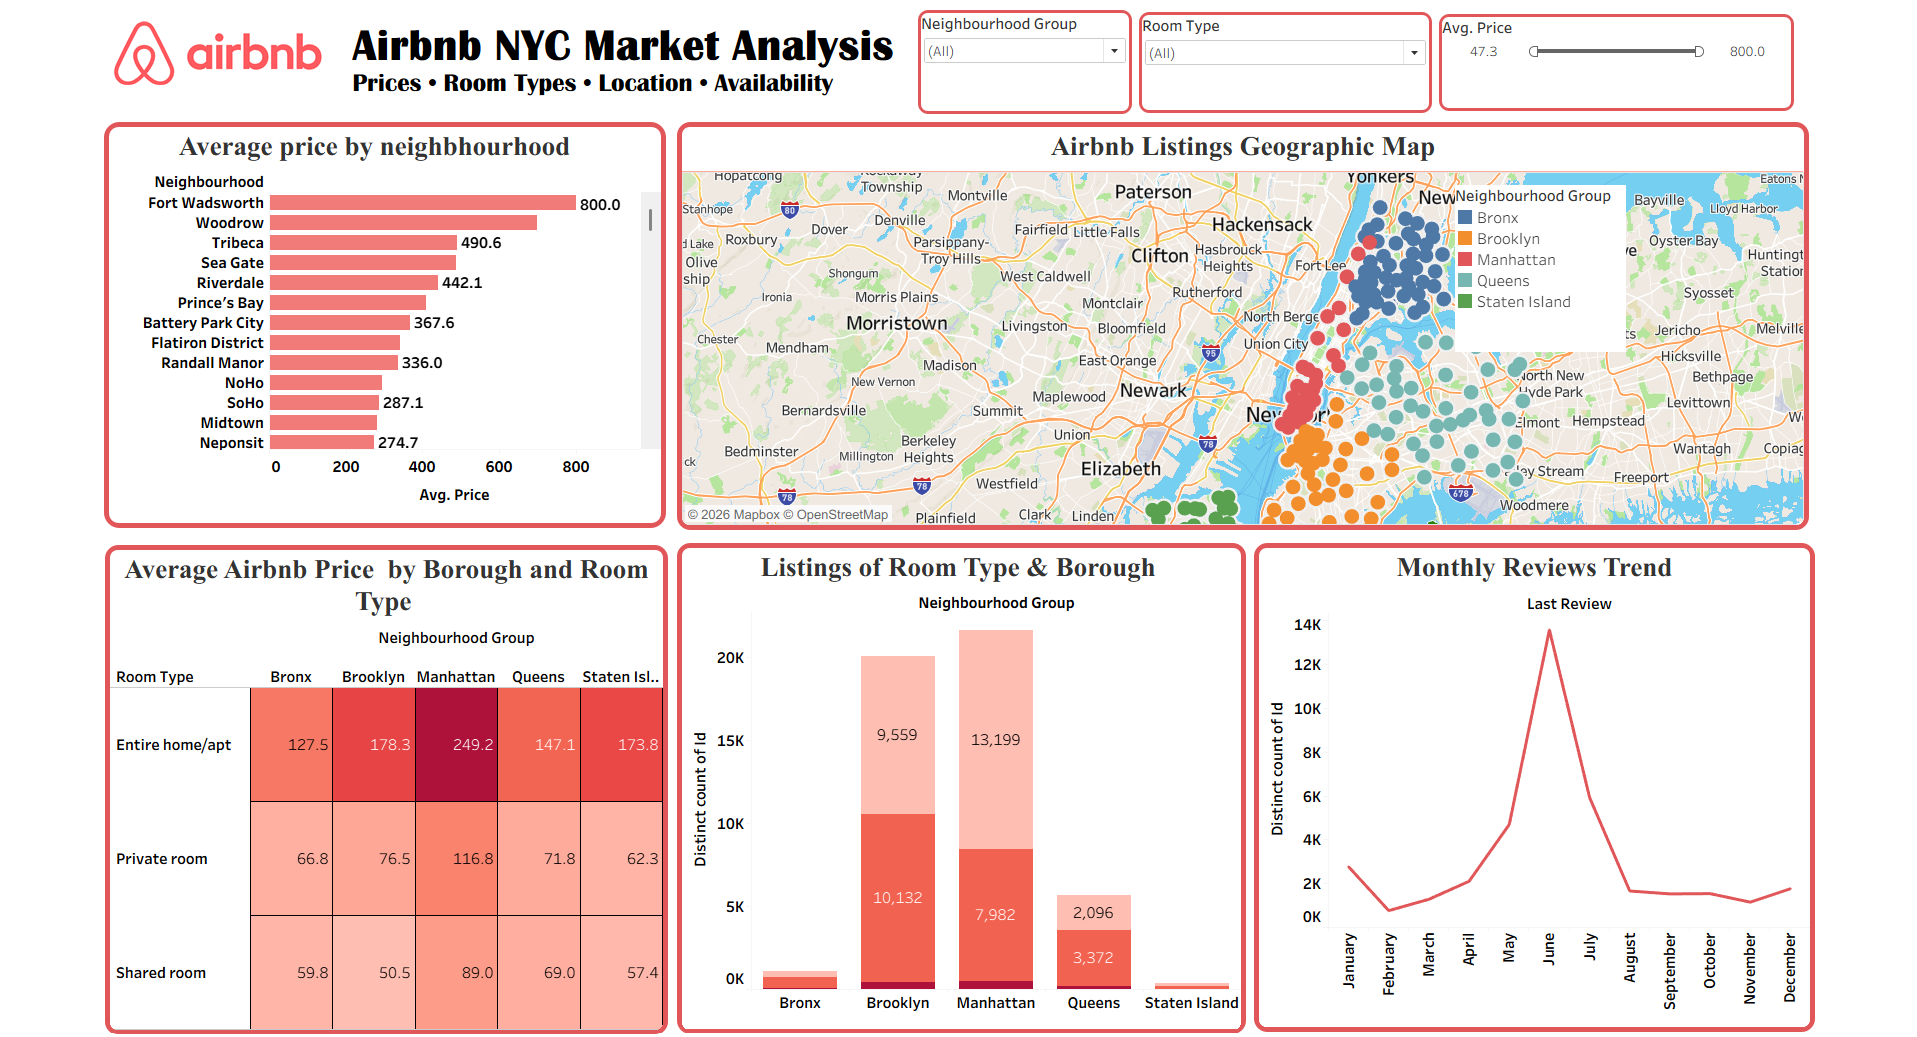

What the dashboard file says about the page in this screenshot:
{"tool":"tableau","page":{"name":"Room Type and Availability Insights","canvas":[1000,1000],"units":"permille","ordinal":0},"visuals":[{"type":"title","box":[144.8,3.4,329.1,107.3]},{"type":"filter","title":"Borough Room Type Heatmap","param":"[federated.0yqosaj09qjw3a1evqjjf0w76m0a].[none:neighbourhood_group:nk]","box":[475.6,10.1,124.4,99.4]},{"type":"filter","title":"Borough Room Type Heatmap","param":"[federated.0yqosaj09qjw3a1evqjjf0w76m0a].[none:room_type:nk]","box":[604.1,11.2,170.3,97.2]},{"type":"filter","title":"Average price by neighbhourhood","param":"[federated.0yqosaj09qjw3a1evqjjf0w76m0a].[avg:price:qk]","box":[778.5,13.4,206.4,92.7]},{"type":"image","param":"Image/images (1).png","box":[7.6,19.8,121.5,81.4]},{"type":"worksheet","title":"Average price by neighbhourhood","mark":"Automatic","rows":["neighbourhood"],"cols":["price"],"box":[2.3,117.3,326.7,388.8]},{"type":"worksheet","title":"Airbnb Listings Geographic Map","mark":"Pie","rows":["latitude"],"cols":["longitude"],"box":[335.5,117.3,658.1,391.1]},{"type":"legend","title":"Airbnb Listings Geographic Map","param":"[federated.0yqosaj09qjw3a1evqjjf0w76m0a].[none:neighbourhood_group:nk]","box":[787.8,177.7,99.4,159.8]},{"type":"worksheet","title":"Listings of room type and borough","mark":"Automatic","rows":["id"],"cols":["neighbourhood_group"],"box":[335.5,520.9,330.8,470.9]},{"type":"worksheet","title":"Monthly Reviews Trend","mark":"Line","rows":["id"],"cols":["last_review"],"box":[670.9,520.9,326.2,468.6]},{"type":"worksheet","title":"Borough Room Type Heatmap","mark":"Square","rows":["room_type"],"cols":["neighbourhood_group"],"box":[2.9,522.1,327.3,469.8]}]}

Visuals, with their boxes on the dashboard's canvas, which has no fixed pixel size, in thousandths of its width and height (x1, y1, x2, y2). These are canvas units, not pixel positions in the 1917x1037 screenshot, which may show the page scaled, cropped or inside an application window:
title: (145, 3, 474, 111)
"Borough Room Type Heatmap" filter: (476, 10, 600, 110)
"Borough Room Type Heatmap" filter: (604, 11, 774, 108)
"Average price by neighbhourhood" filter: (778, 13, 985, 106)
image: (8, 20, 129, 101)
"Average price by neighbhourhood" worksheet: (2, 117, 329, 506)
"Airbnb Listings Geographic Map" worksheet (Pie marks): (336, 117, 994, 508)
"Airbnb Listings Geographic Map" legend: (788, 178, 887, 338)
"Listings of room type and borough" worksheet: (336, 521, 666, 992)
"Monthly Reviews Trend" worksheet (Line marks): (671, 521, 997, 990)
"Borough Room Type Heatmap" worksheet (Square marks): (3, 522, 330, 992)
